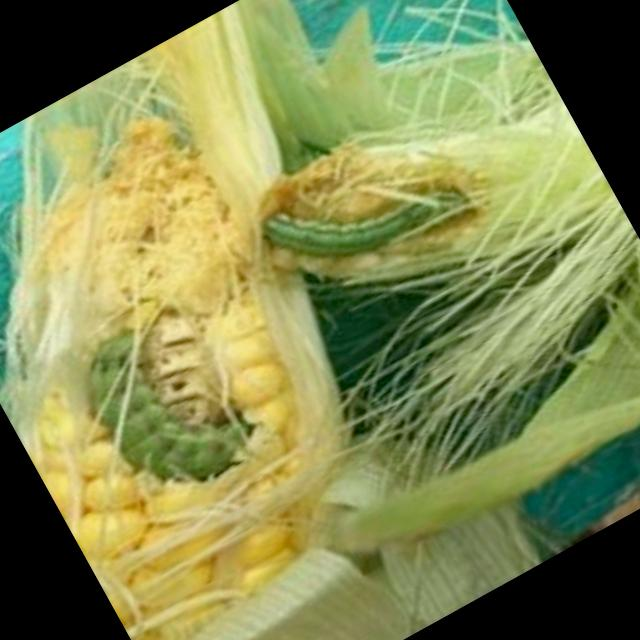Cotton bollworm: (29, 262, 301, 558), (232, 82, 504, 340)
